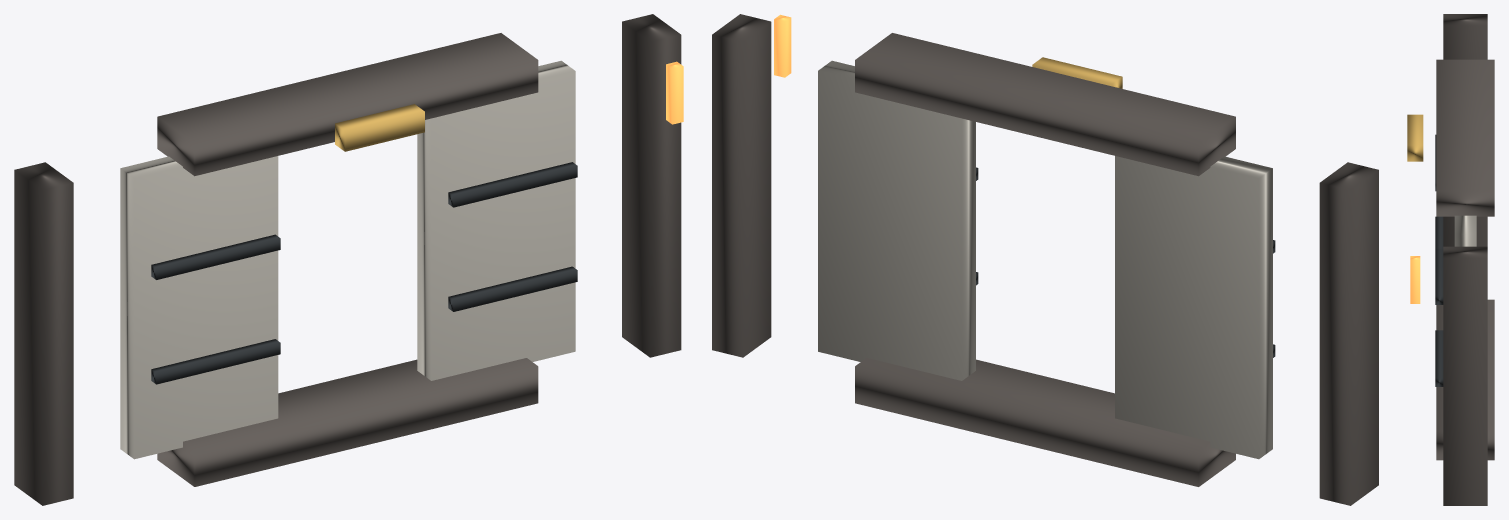
Rendered from solar-yard-thermal-shutter-lod1.glb.
3 renders of one model, left to right at view 1: azimuth 30°, elevation 25°; view 2: azimuth 150°, elevation 25°; view 3: azimuth 270°, elevation 25°, orthographic. The views are drawn at different scales.
Visible parts, largest first — view 1: solar-yard-thermal-shutter-panel-left, solar-yard-thermal-shutter-panel-right, solar-yard-thermal-shutter-rail, solar-yard-thermal-shutter-sill, solar-yard-thermal-shutter-post-left, solar-yard-thermal-shutter-post-right, solar-yard-thermal-shutter-actuator, solar-yard-thermal-shutter-rib-left-a, solar-yard-thermal-shutter-rib-left-b, solar-yard-thermal-shutter-rib-right-a, solar-yard-thermal-shutter-rib-right-b, solar-yard-thermal-shutter-status; view 2: solar-yard-thermal-shutter-panel-left, solar-yard-thermal-shutter-panel-right, solar-yard-thermal-shutter-rail, solar-yard-thermal-shutter-sill, solar-yard-thermal-shutter-post-left, solar-yard-thermal-shutter-post-right, solar-yard-thermal-shutter-actuator, solar-yard-thermal-shutter-status; view 3: solar-yard-thermal-shutter-post-right, solar-yard-thermal-shutter-rail, solar-yard-thermal-shutter-post-left, solar-yard-thermal-shutter-sill, solar-yard-thermal-shutter-actuator, solar-yard-thermal-shutter-panel-right, solar-yard-thermal-shutter-status, solar-yard-thermal-shutter-rib-right-a, solar-yard-thermal-shutter-rib-right-b, solar-yard-thermal-shutter-rib-left-a.
Boxes of the visible parts, left/top/right/bottom form: solar-yard-thermal-shutter-panel-left: left=120, top=156, right=278, bottom=459; solar-yard-thermal-shutter-panel-right: left=417, top=60, right=575, bottom=380; solar-yard-thermal-shutter-rail: left=157, top=33, right=538, bottom=176; solar-yard-thermal-shutter-sill: left=157, top=358, right=538, bottom=486; solar-yard-thermal-shutter-post-left: left=14, top=162, right=73, bottom=505; solar-yard-thermal-shutter-post-right: left=622, top=14, right=681, bottom=357; solar-yard-thermal-shutter-actuator: left=335, top=104, right=424, bottom=151; solar-yard-thermal-shutter-rib-left-a: left=151, top=339, right=280, bottom=384; solar-yard-thermal-shutter-rib-left-b: left=151, top=234, right=280, bottom=279; solar-yard-thermal-shutter-rib-right-a: left=448, top=266, right=577, bottom=311; solar-yard-thermal-shutter-rib-right-b: left=448, top=162, right=577, bottom=207; solar-yard-thermal-shutter-status: left=666, top=61, right=683, bottom=124; solar-yard-thermal-shutter-panel-left: left=1115, top=156, right=1272, bottom=459; solar-yard-thermal-shutter-panel-right: left=818, top=60, right=975, bottom=380; solar-yard-thermal-shutter-rail: left=855, top=33, right=1235, bottom=176; solar-yard-thermal-shutter-sill: left=855, top=358, right=1235, bottom=486; solar-yard-thermal-shutter-post-left: left=1319, top=162, right=1378, bottom=505; solar-yard-thermal-shutter-post-right: left=712, top=14, right=771, bottom=357; solar-yard-thermal-shutter-actuator: left=1032, top=57, right=1122, bottom=88; solar-yard-thermal-shutter-status: left=774, top=14, right=791, bottom=77; solar-yard-thermal-shutter-post-right: left=1443, top=246, right=1487, bottom=505; solar-yard-thermal-shutter-rail: left=1436, top=59, right=1494, bottom=216; solar-yard-thermal-shutter-post-left: left=1443, top=14, right=1487, bottom=246; solar-yard-thermal-shutter-sill: left=1436, top=299, right=1494, bottom=460; solar-yard-thermal-shutter-actuator: left=1407, top=114, right=1423, bottom=161; solar-yard-thermal-shutter-panel-right: left=1454, top=215, right=1476, bottom=246; solar-yard-thermal-shutter-status: left=1410, top=256, right=1420, bottom=303; solar-yard-thermal-shutter-rib-right-a: left=1435, top=330, right=1443, bottom=386; solar-yard-thermal-shutter-rib-right-b: left=1435, top=248, right=1443, bottom=304; solar-yard-thermal-shutter-rib-left-a: left=1435, top=216, right=1443, bottom=248.
Size of the model in its own units: 5.76 by 2.96 by 0.87.
